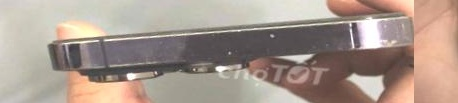scratch: (32, 0, 414, 103), (120, 13, 268, 43), (76, 45, 186, 80), (336, 27, 414, 57), (217, 43, 249, 62), (262, 29, 298, 45)
